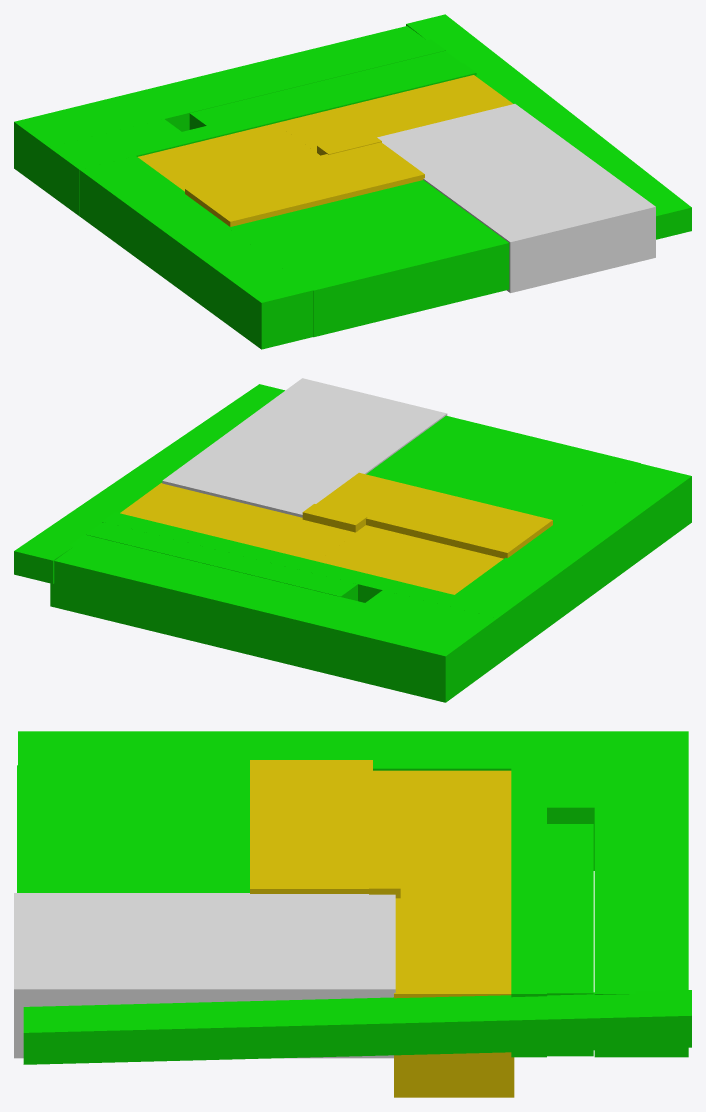
File: zones.glb
3 views of the same model, one above another, from view 1: azimuth 30°, elevation 25°; view 2: azimuth 150°, elevation 25°; view 3: azimuth 270°, elevation 25° (orthographic). The views are drawn at different scales.
Parts seen in each view (by area): view 1: Cube.001, Cube.003, Cube.009, Cube.010, Cube.004, Cube.002, Cube.007, Cube.008, Cube.005, Cube.013, Cube.011, Cube.006; view 2: Cube.010, Cube.001, Cube.009, Cube.003, Cube.004, Cube.002, Cube.007, Cube.005, Cube.008, Cube.013, Cube.011, Cube.006; view 3: Cube.001, Cube.002, Cube.003, Cube.010, Cube.007, Cube.009, Cube.004, Cube.005, Cube.008, Cube.013, Cube.011, Cube.006.
Part boxes in pixels (box(x1,y1,x2,y2)): Cube.001: box(377, 104, 655, 293); Cube.003: box(228, 180, 509, 337); Cube.009: box(79, 156, 313, 349); Cube.010: box(14, 26, 445, 193); Cube.004: box(185, 142, 424, 226); Cube.002: box(406, 14, 691, 239); Cube.007: box(276, 75, 512, 154); Cube.008: box(66, 63, 476, 216); Cube.005: box(138, 123, 319, 191); Cube.013: box(189, 51, 461, 129); Cube.011: box(48, 119, 181, 206); Cube.006: box(317, 132, 381, 155); Cube.010: box(50, 534, 480, 702); Cube.001: box(162, 378, 447, 517); Cube.009: box(455, 463, 691, 654); Cube.003: box(366, 415, 640, 525); Cube.004: box(316, 472, 552, 558); Cube.002: box(14, 384, 284, 583); Cube.007: box(120, 483, 357, 561); Cube.005: box(317, 525, 503, 594); Cube.008: box(102, 512, 510, 664); Cube.013: box(86, 522, 357, 600); Cube.011: box(365, 590, 497, 677); Cube.006: box(302, 504, 367, 532); Cube.001: box(14, 893, 395, 1058); Cube.002: box(23, 990, 691, 1064); Cube.003: box(17, 765, 249, 892); Cube.010: box(594, 731, 688, 1057); Cube.007: box(394, 863, 514, 1097); Cube.009: box(18, 731, 511, 770); Cube.004: box(250, 760, 372, 893); Cube.005: box(373, 770, 511, 862); Cube.008: box(511, 731, 546, 1057); Cube.013: box(547, 824, 593, 1056); Cube.011: box(547, 731, 594, 870); Cube.006: box(369, 853, 400, 898).
Size of the model in its own units: 970 by 203 by 972.
